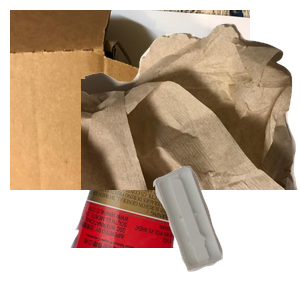cardboard: (10, 10, 250, 190)
glass: (68, 120, 255, 300)
plastic: (150, 163, 300, 300)
trash: (81, 21, 300, 201)
